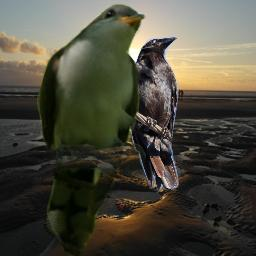Crow: (120, 35, 179, 190)
Cuckoo: (37, 3, 146, 256)
